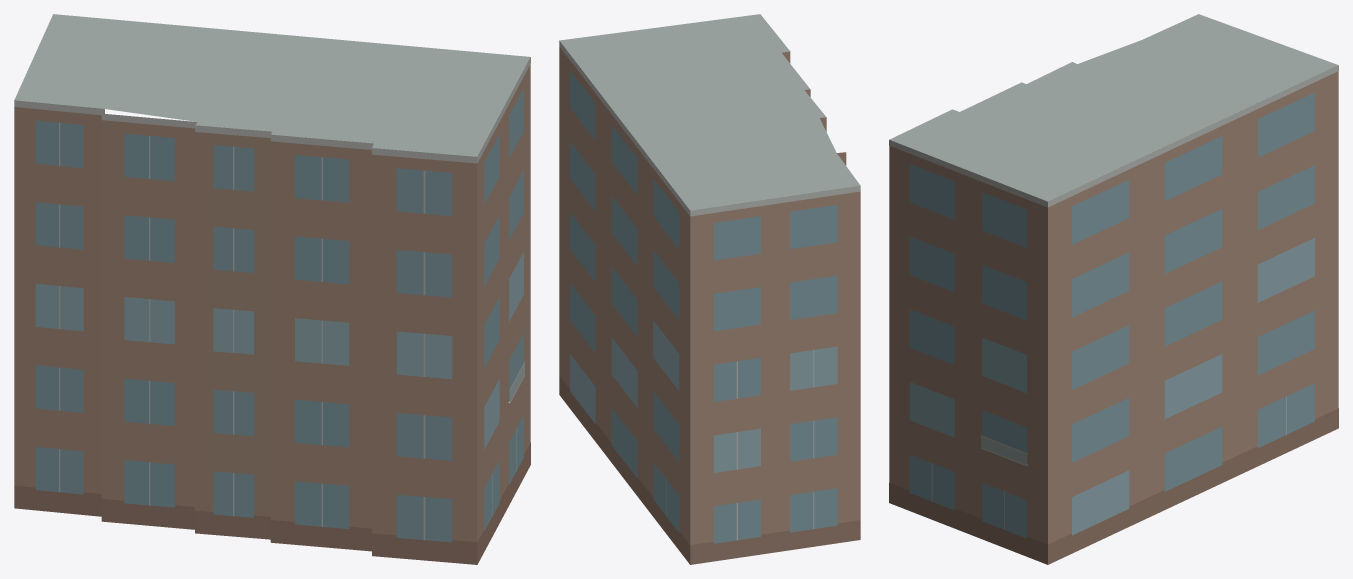
Rendered from survey-upis-32879182.glb.
The picture shows the model from 3 angles, left to right: view 1: azimuth 30°, elevation 25°; view 2: azimuth 150°, elevation 25°; view 3: azimuth 270°, elevation 25°; orthographic projection. The views are drawn at different scales.
Parts seen in each view (by area): view 1: survey-upis-32879182.tmp; view 2: survey-upis-32879182.tmp; view 3: survey-upis-32879182.tmp.
Boxes of the visible parts, x1,y1,x2,y2 form: survey-upis-32879182.tmp: [14, 14, 530, 564]; survey-upis-32879182.tmp: [559, 14, 860, 564]; survey-upis-32879182.tmp: [889, 14, 1338, 564].
Bounding box in the file's own units: 16.62 × 15 × 16.83.
